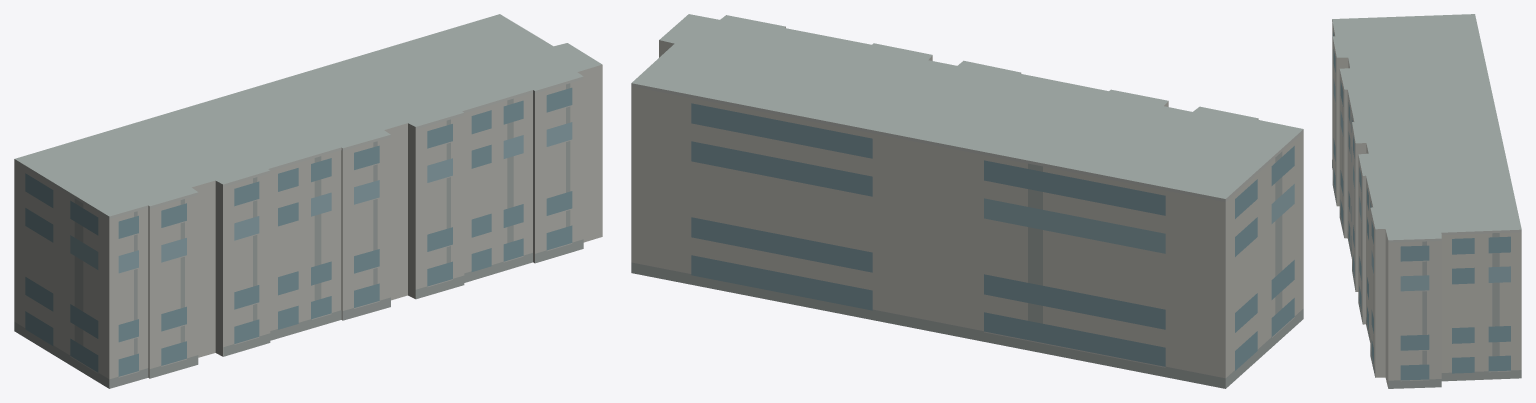
Rendered from survey-upis-32843660.glb.
3 renders of one model, left to right at view 1: azimuth 30°, elevation 25°; view 2: azimuth 150°, elevation 25°; view 3: azimuth 270°, elevation 25°, orthographic. The views are drawn at different scales.
Parts seen in each view (by area): view 1: survey-upis-32843660.tmp; view 2: survey-upis-32843660.tmp; view 3: survey-upis-32843660.tmp.
Part boxes in pixels (x1,y1,x2,y2): survey-upis-32843660.tmp: [14, 14, 602, 388]; survey-upis-32843660.tmp: [631, 14, 1303, 388]; survey-upis-32843660.tmp: [1332, 14, 1521, 388].
Bounding box in the file's own units: 49.8 × 15.25 × 17.64.
